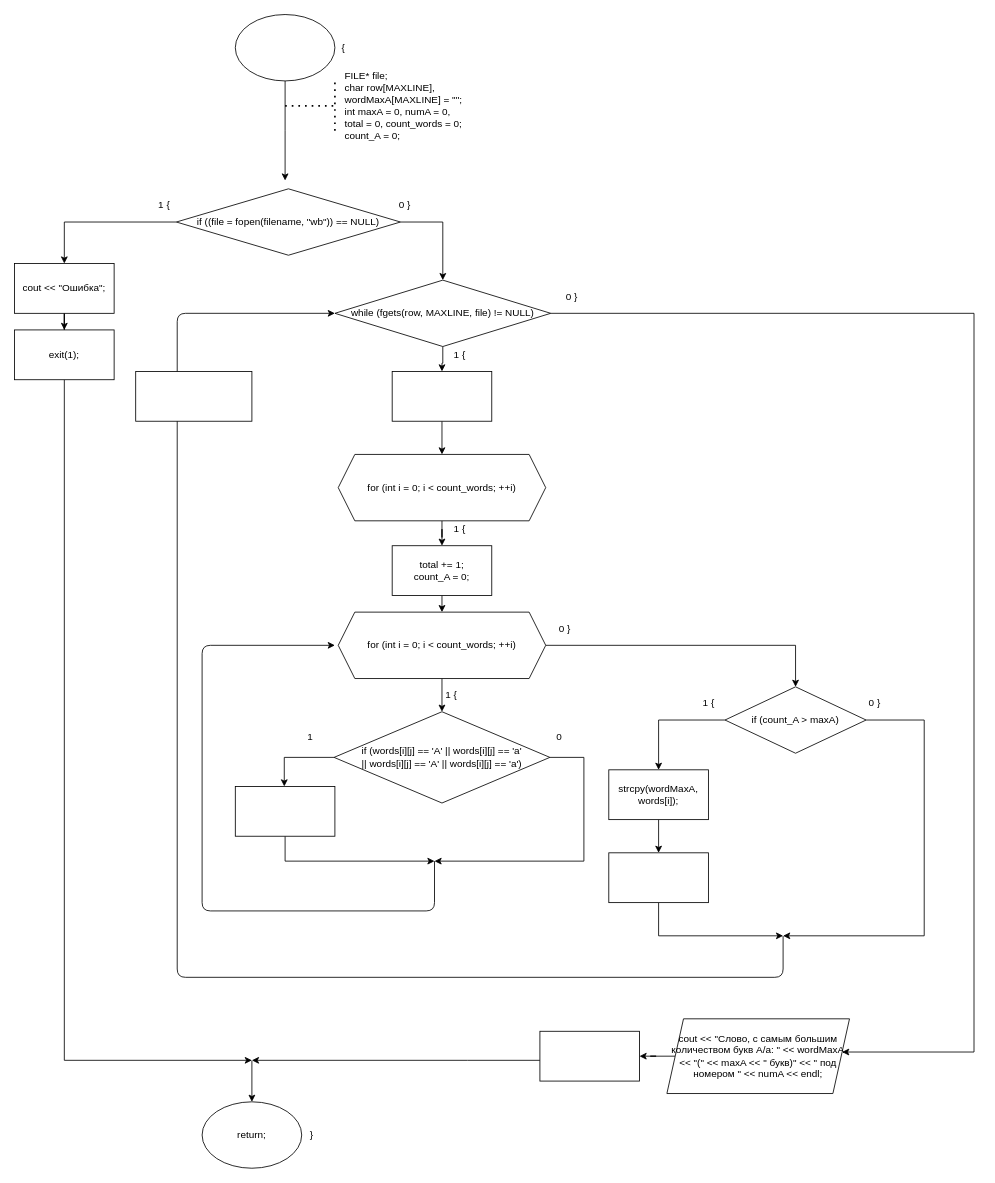
Some shapes in this 995 by 1183 pixel diagram are drawn without their labels. The shapes that lost their labels are listed below. From the top down, each one's centre as x and y in pixels, then its label:
the point at 284,47: void slovo
the point at 193,396: deleteListWords(words);
the point at 441,396: char** words = createListWords(row, count_words);
the point at 284,811: count_A++;
the point at 658,877: maxA = count_A; numA = total;
the point at 589,1055: fclose(file);
